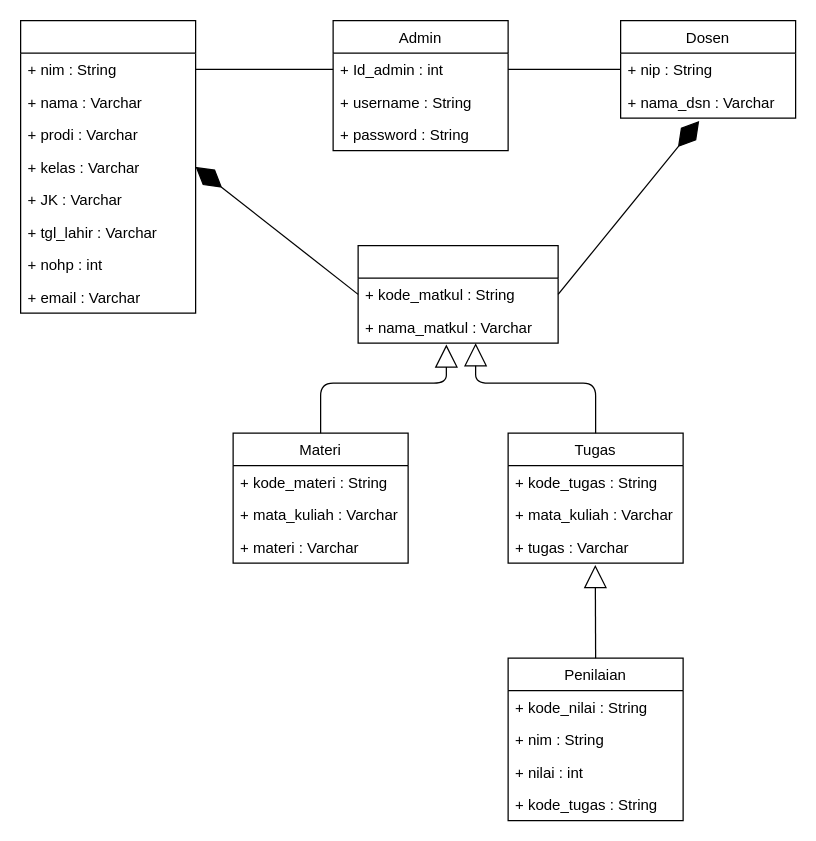
Image size: 816x841. Some labels were removed from this diagram. Here are the shapes that lost their labels. From the top down, the box of each, then its label:
(19, 19, 196, 313): Mahasiswa
(357, 244, 558, 343): Mata_Kuliah
